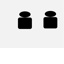human: (41, 8, 58, 29), (17, 10, 32, 29)
